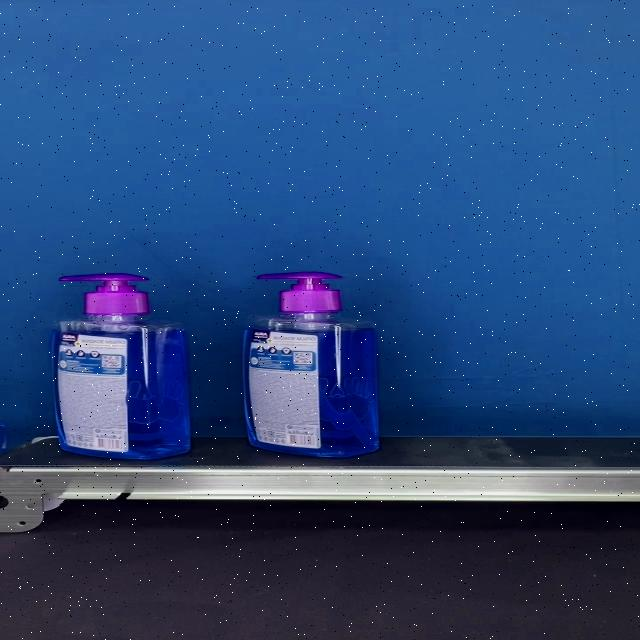Bottle: (51, 274, 191, 460), (242, 272, 380, 458)
Cap: (57, 274, 149, 317), (256, 272, 344, 314)
